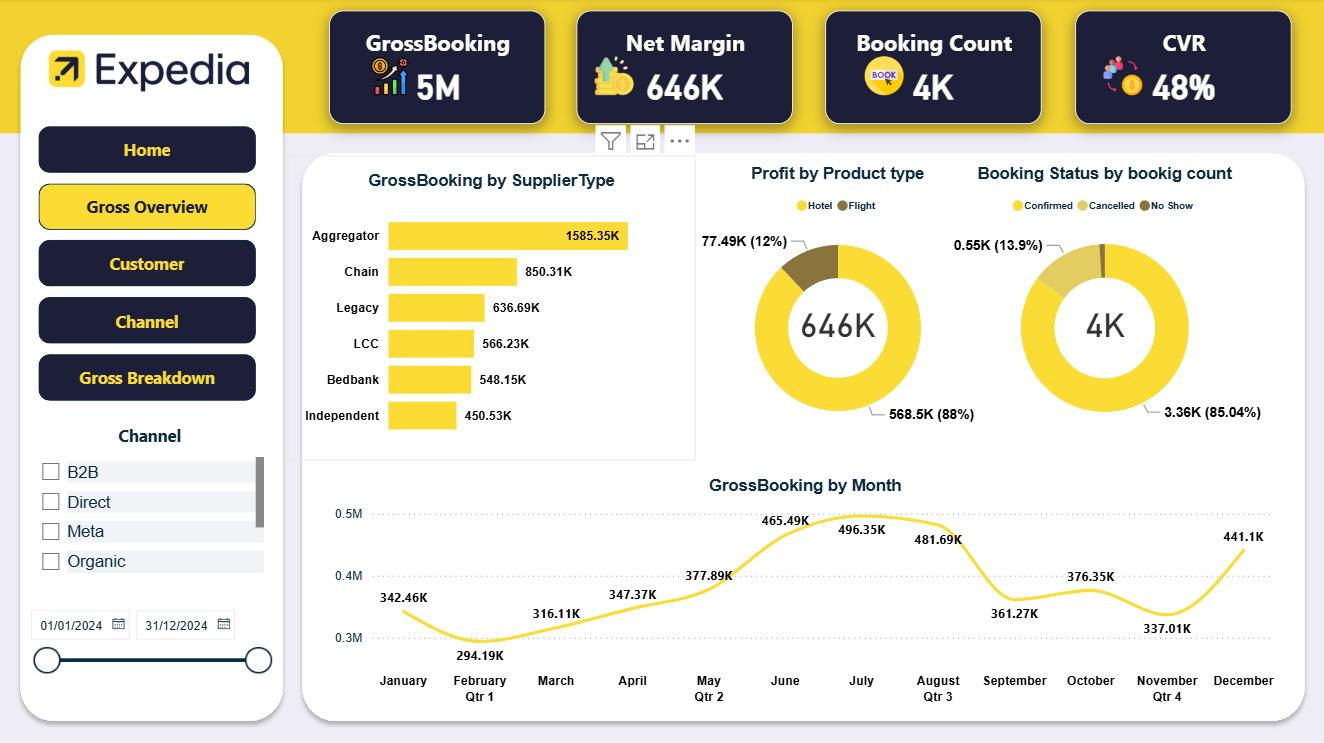

Layout of this report page (visuals, bound fields, positions):
{"tool":"powerbi","page":{"name":"Gross Overview","canvas":[1280,720],"ordinal":1},"visuals":[{"type":"advanceCardE03760C5AB684758B56AA29F9E6C257B","title":"GrossBooking","fields":{"mainMeasure":["Sum(Fact_Bookings.GrossBookingValueUSD)"]},"box":[318.5,12.1,208.7,109.8],"z":0},{"type":"advanceCardE03760C5AB684758B56AA29F9E6C257B","title":"Net Margin","fields":{"mainMeasure":["Sum(Fact_Bookings.NetMarginUSD)"]},"box":[557.4,12.1,208.7,109.8],"z":1000},{"type":"advanceCardE03760C5AB684758B56AA29F9E6C257B","title":"Booking Count","fields":{"mainMeasure":["CountNonNull(Fact_Bookings.BookingID)"]},"box":[797.5,12.1,208.7,109.8],"z":2000},{"type":"advanceCardE03760C5AB684758B56AA29F9E6C257B","title":"CVR","fields":{"mainMeasure":["Fact_Bookings.conversion rate"]},"box":[1038.7,12.1,208.7,109.8],"z":3000},{"type":"donutChart","title":"Booking Status by bookig count","fields":{"Category":["Fact_Bookings.BookingStatus"],"Y":["CountNonNull(Fact_Bookings.BookingID)"]},"box":[854.2,144.8,425.9,294.4],"z":4000},{"type":"barChart","title":"GrossBooking by SupplierType","fields":{"Category":["DimProduct.SupplierType"],"Y":["Sum(Fact_Bookings.GrossBookingValueUSD)"]},"box":[278.7,152,393.3,294.4],"z":5000},{"type":"lineChart","title":"GrossBooking by Month","fields":{"Y":["Sum(Fact_Bookings.GrossBookingValueUSD)"],"Category":["Fact_Bookings.BookingDate.Variation.Date Hierarchy.Quarter","Fact_Bookings.BookingDate.Variation.Date Hierarchy.Month"]},"box":[308.8,446.4,938.6,258.2],"z":6000},{"type":"donutChart","title":"Profit by Product type","fields":{"Category":["DimProduct.ProductType"],"Y":["Sum(Fact_Bookings.NetMarginUSD)"]},"box":[612.9,144.8,393.3,294.4],"z":7000},{"type":"advanceCardE03760C5AB684758B56AA29F9E6C257B","fields":{"mainMeasure":["CountNonNull(Fact_Bookings.BookingID)"]},"box":[1012.2,272.7,111,86.9],"z":8000},{"type":"advanceCardE03760C5AB684758B56AA29F9E6C257B","fields":{"mainMeasure":["Sum(Fact_Bookings.NetMarginUSD)"]},"box":[751.6,278.7,115.8,74.8],"z":9000},{"type":"slicer","fields":{"Values":["Fact_Bookings.BookingDate"]},"box":[22.9,586.3,243.7,92.9],"z":10000},{"type":"slicer","title":"Channel ","fields":{"Values":["Dim_Channel.ChannelGroup"]},"box":[32.6,410.2,224.4,150.8],"z":11000},{"type":"image","box":[32.6,27.7,224.4,80.8],"z":12000},{"type":"pageNavigator","box":[22.9,108.6,240.1,295.6],"z":13000},{"type":"image","box":[331.8,41,91.7,67.6],"z":14000},{"type":"image","box":[547.7,41,91.7,67.6],"z":15000},{"type":"image","box":[808.3,41,91.7,67.6],"z":16000},{"type":"image","box":[1038.7,41,91.7,67.6],"z":17000}]}

Visuals, with their boxes in screenshot pixels (x1, y1, x2, y2), scaled from the page's 1280x720 canvas onto the 1324x743 screenshot:
"GrossBooking" advanceCardE03760C5AB684758B56AA29F9E6C257B: (329, 12, 545, 126)
"Net Margin" advanceCardE03760C5AB684758B56AA29F9E6C257B: (577, 12, 792, 126)
"Booking Count" advanceCardE03760C5AB684758B56AA29F9E6C257B: (825, 12, 1041, 126)
"CVR" advanceCardE03760C5AB684758B56AA29F9E6C257B: (1074, 12, 1290, 126)
"Booking Status by bookig count" donutChart: (884, 149, 1323, 453)
"GrossBooking by SupplierType" barChart: (288, 157, 695, 461)
"GrossBooking by Month" lineChart: (319, 461, 1290, 727)
"Profit by Product type" donutChart: (634, 149, 1041, 453)
advanceCardE03760C5AB684758B56AA29F9E6C257B - CountNonNull(Fact_Bookings.BookingID): (1047, 281, 1162, 371)
advanceCardE03760C5AB684758B56AA29F9E6C257B - Sum(Fact_Bookings.NetMarginUSD): (777, 288, 897, 365)
slicer - Fact_Bookings.BookingDate: (24, 605, 276, 701)
"Channel " slicer: (34, 423, 266, 579)
image: (34, 29, 266, 112)
pageNavigator: (24, 112, 272, 417)
image: (343, 42, 438, 112)
image: (567, 42, 661, 112)
image: (836, 42, 931, 112)
image: (1074, 42, 1169, 112)
